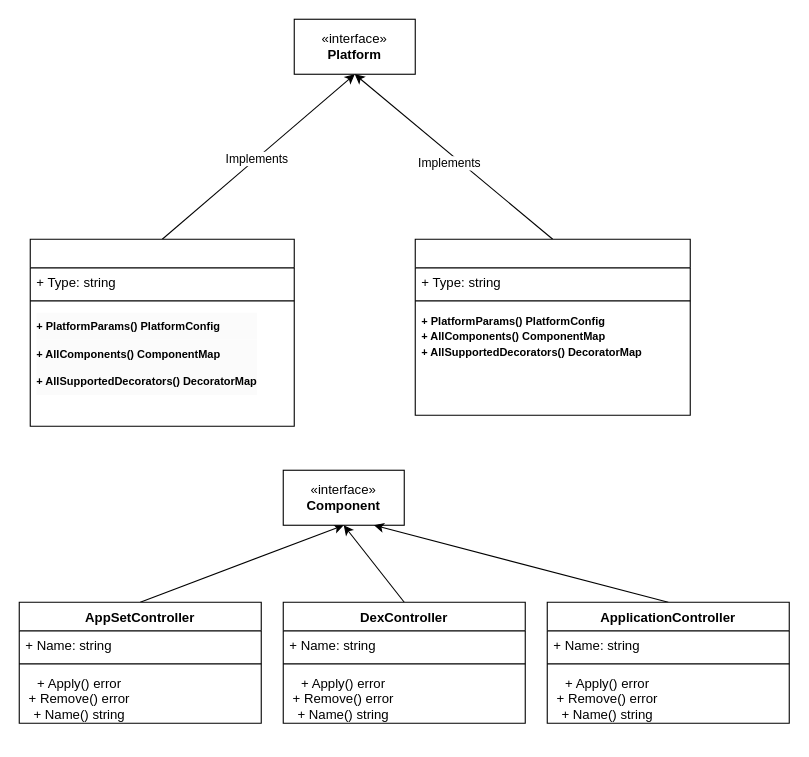
Image size: 809x757. Some labels were removed from this diagram. The shapes that lost their labels are listed below. From the top down, each one's box as (x1, y1, x2, y2) in pixels, then its label:
(29, 238, 294, 426): Kubernetes
(414, 238, 690, 415): OpenShift
